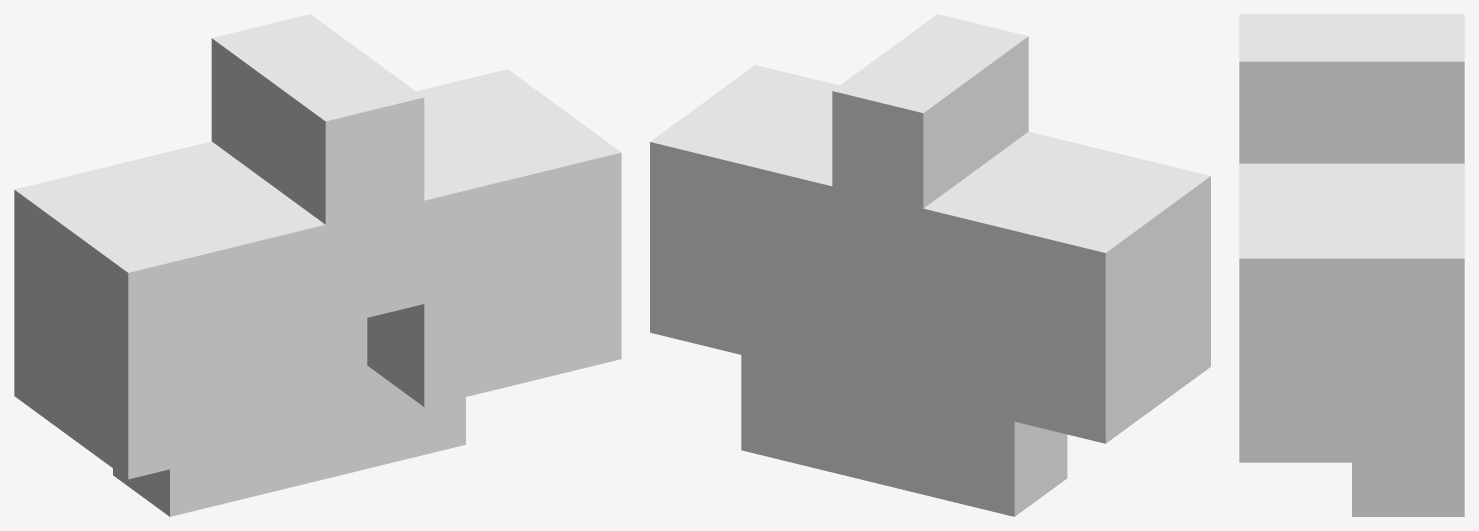
The model's file is Spine3.obj.
3 views of the same model, side by side, from view 1: azimuth 30°, elevation 25°; view 2: azimuth 150°, elevation 25°; view 3: azimuth 270°, elevation 25° (orthographic). The views are drawn at different scales.
Bounding box in the file's own units: 5 × 4 × 2.
Materials: 1 (1 with a texture image).
